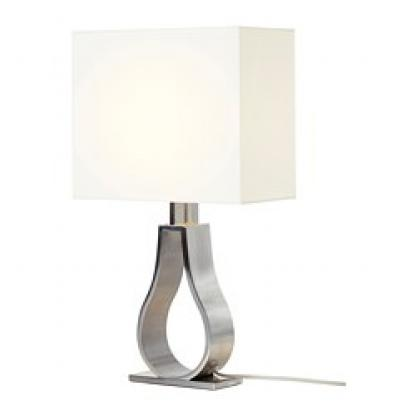Lamp: (45, 10, 328, 404)
